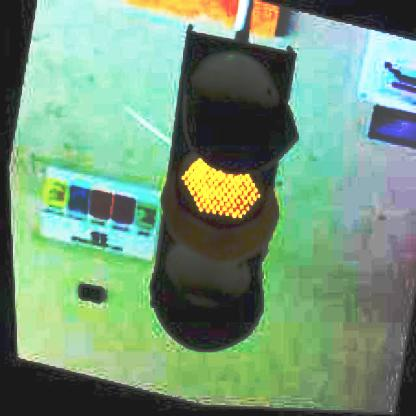Traffic Light -Yellow-: (120, 27, 316, 368)
